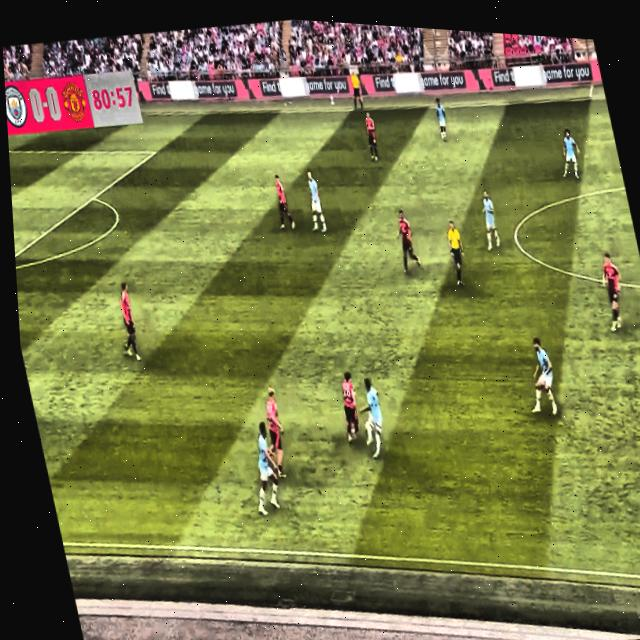ball: (358, 410, 378, 440)
players: (238, 418, 290, 523), (589, 245, 633, 341), (252, 383, 296, 477), (520, 333, 564, 423), (351, 376, 395, 461), (325, 366, 370, 447), (108, 278, 149, 366), (387, 200, 427, 277), (298, 162, 337, 238), (471, 179, 504, 251), (552, 125, 588, 189), (265, 168, 299, 234), (359, 105, 389, 170), (429, 89, 458, 150)
refree: (437, 211, 479, 291), (342, 63, 370, 120)
